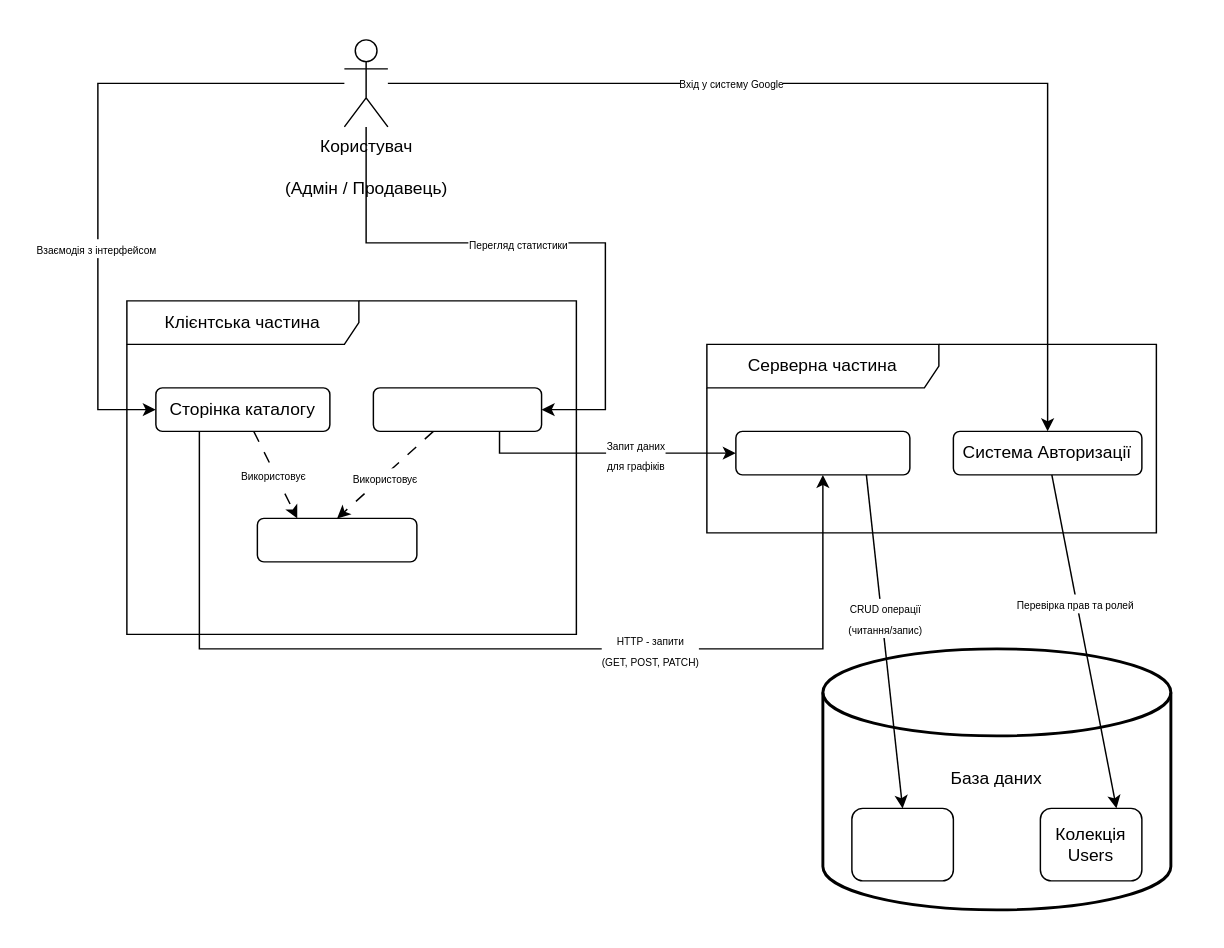
Image size: 1224x948. Some labels were removed from this diagram. The centre of each missing label's shape, as x and y in pixels:
"API Роути Товарів" belongs at (822,452).
"UI Компоненти" belongs at (336,539).
"Колекція Products" belongs at (901,844).
"Панель Аналітики" belongs at (457,408).
